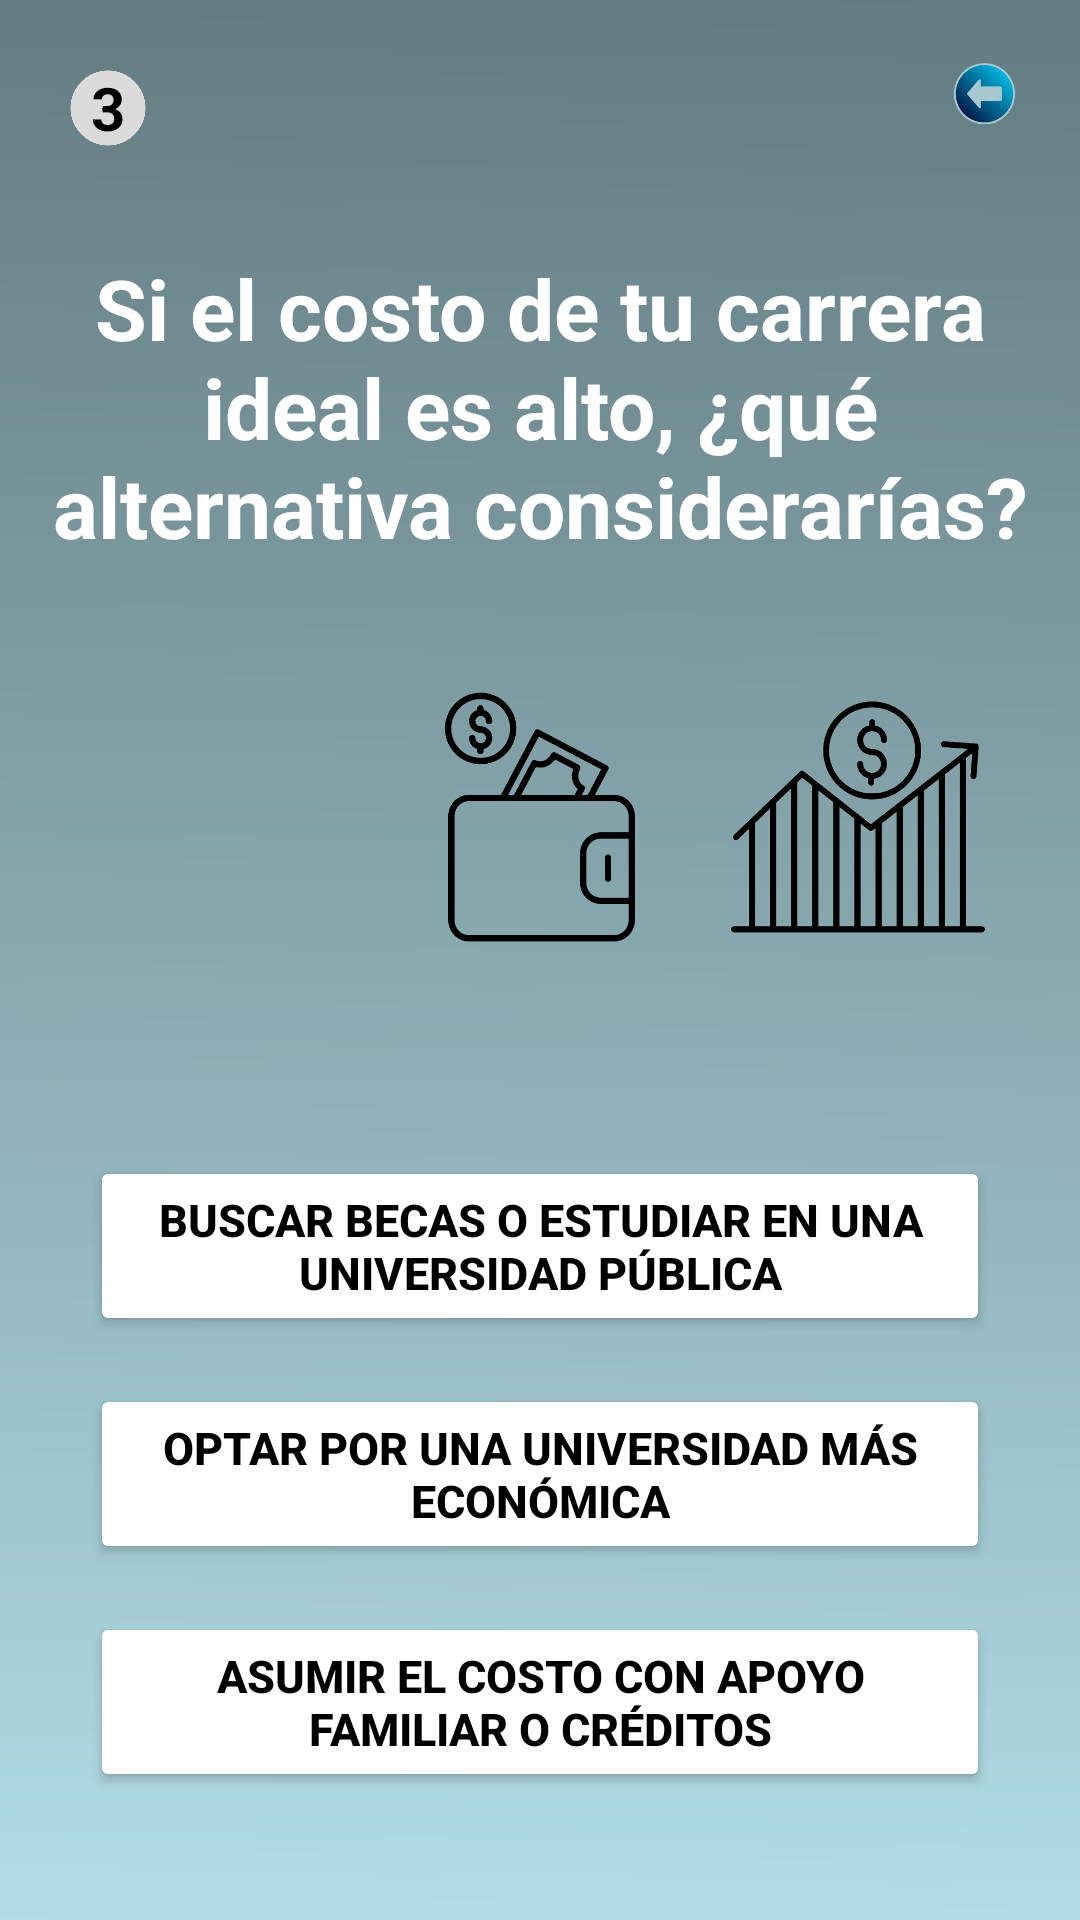

Icons on this 1080 × 1920 Android screen, each with the point to tap as point (x, y):
cartera: point (540, 817)
crecimiento: point (858, 817)
retroceso: point (984, 93)
